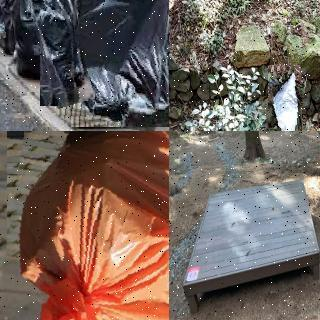Garbage: (0, 131, 169, 320), (63, 0, 169, 130), (31, 0, 87, 107), (264, 64, 305, 131)
